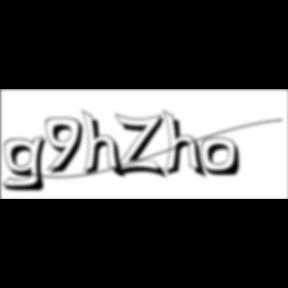9: (46, 117, 90, 177)
Z: (115, 112, 170, 181)
g: (2, 134, 54, 194)
h: (82, 108, 128, 182), (164, 108, 210, 182)
o: (202, 137, 244, 179)
